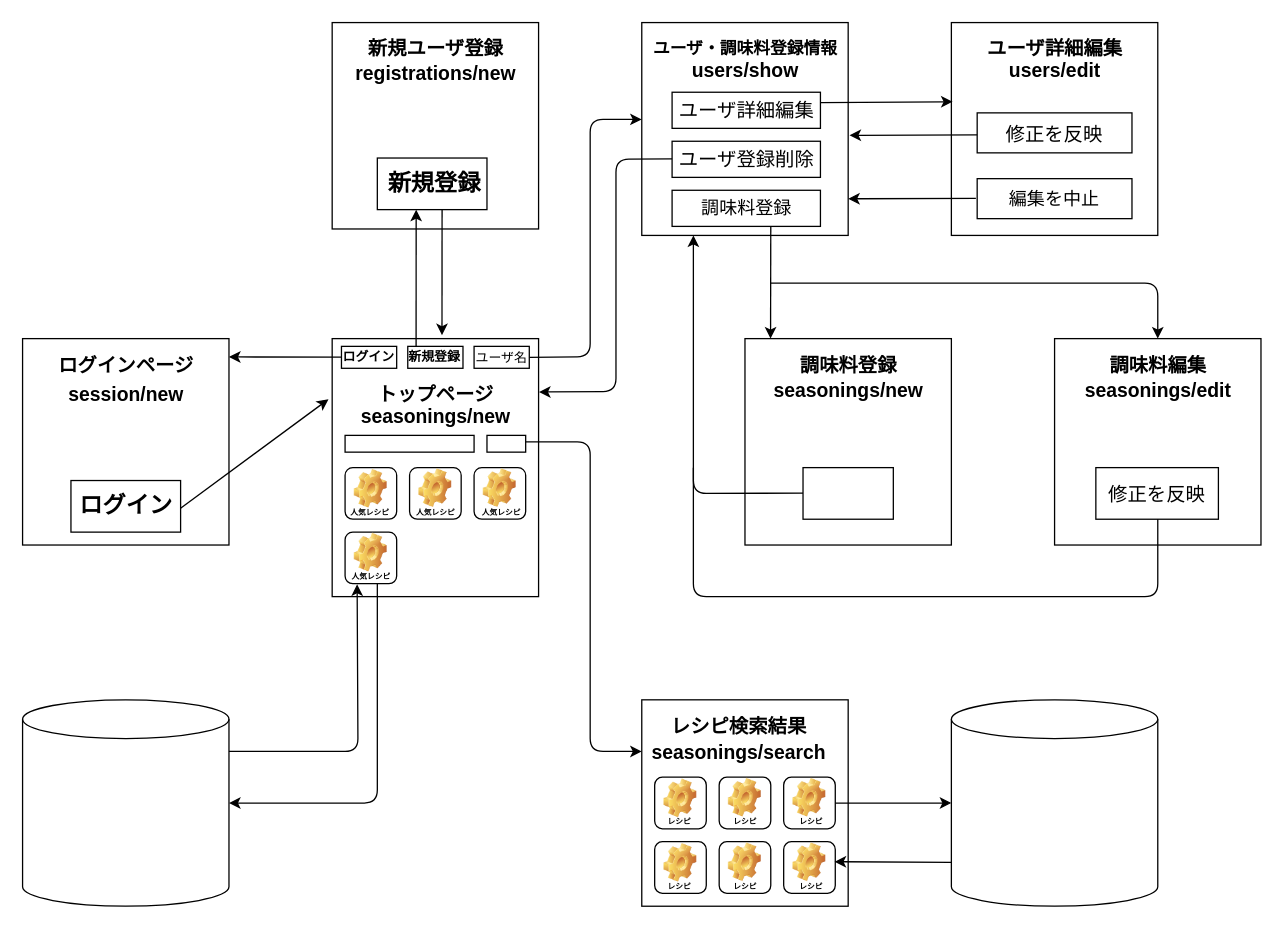
Image size: 1284x929. Some labels were removed from this diagram. The box of each missing label's shape, as (x1, y1, x2, y2) in pixels:
検索: (486, 434, 526, 452)
楽天レシピAPI カテゴリ別 人気ランキング から取得 （各レシピ詳細画面）: (21, 699, 229, 906)
楽天レシピAPI カテゴリ別一覧 から取得 （各レシピ詳細画面）: (950, 699, 1158, 906)
登録: (802, 466, 893, 519)
